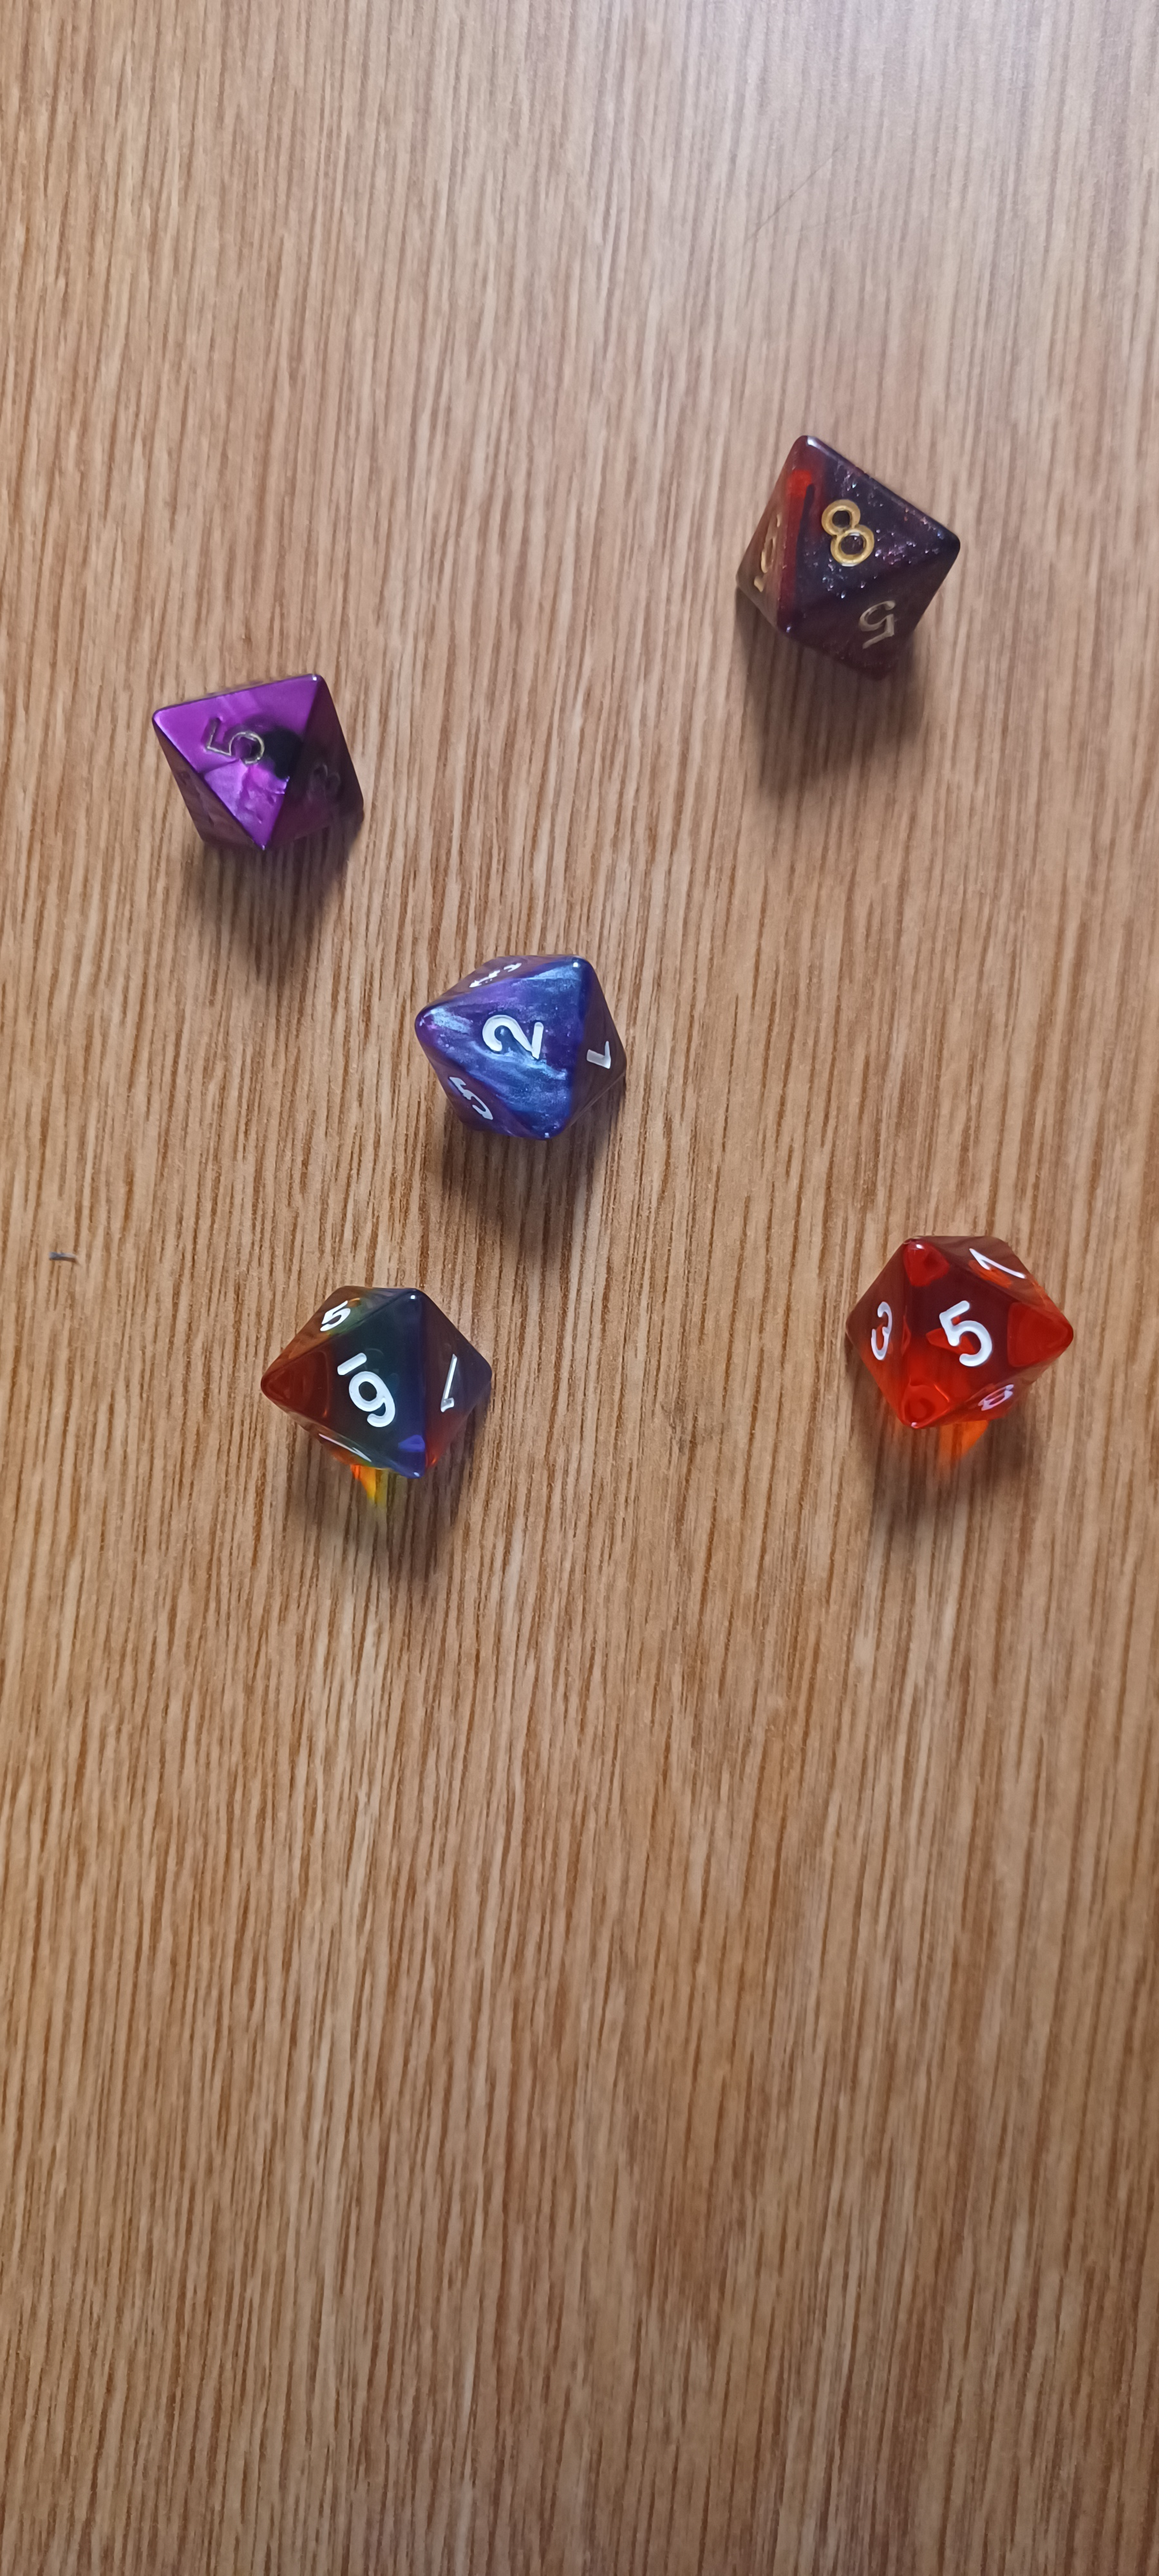eight: (681, 399, 1018, 697)
five: (809, 1204, 1105, 1483), (141, 616, 383, 890)
six: (230, 1257, 561, 1511)
two: (368, 922, 658, 1186)
